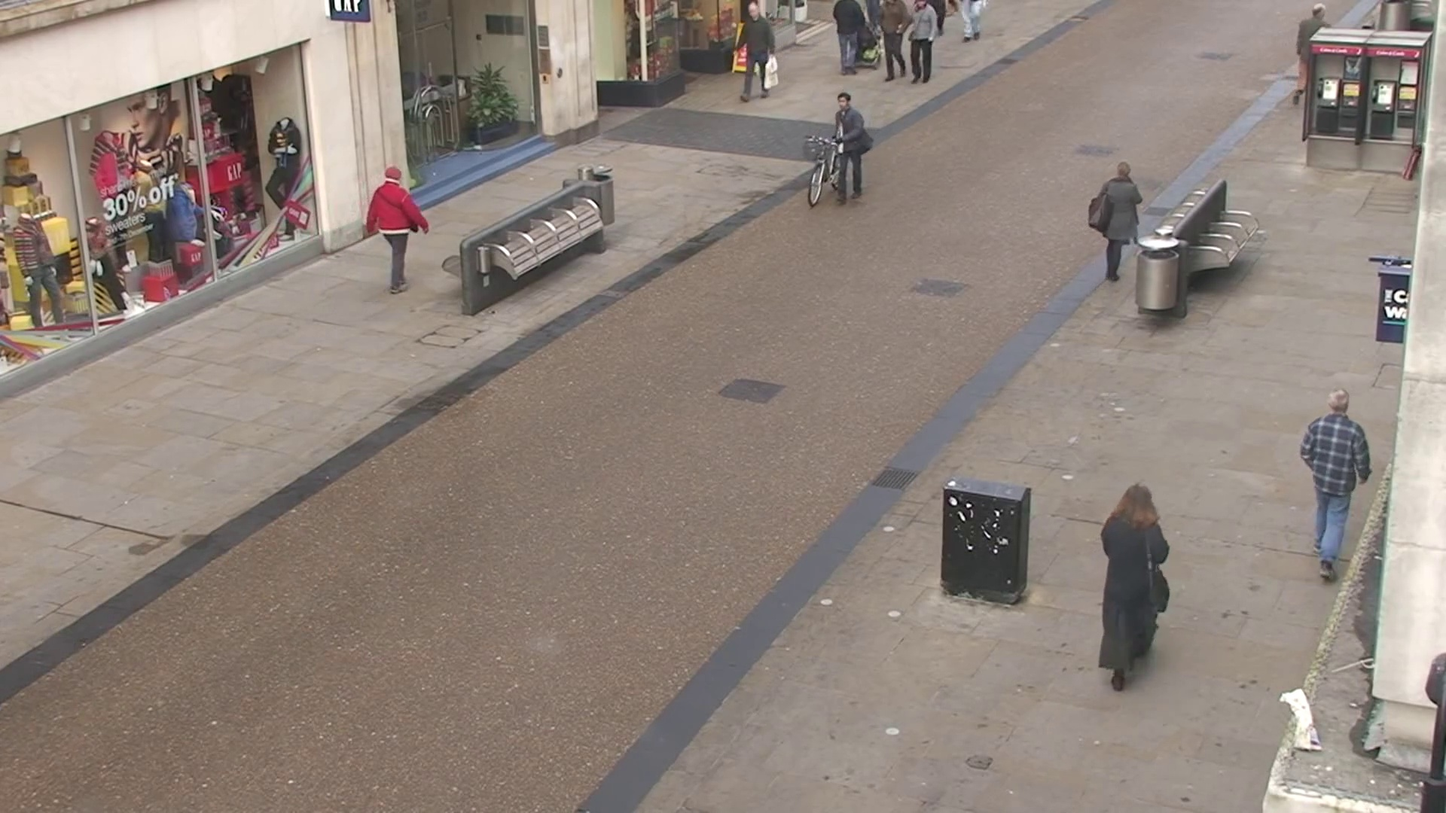person: (1098, 481, 1172, 693), (1300, 387, 1371, 580), (363, 163, 432, 294), (1088, 163, 1145, 284), (265, 116, 307, 236), (832, 90, 873, 199), (739, 2, 779, 99), (904, 0, 941, 83), (877, 0, 913, 84), (831, 0, 870, 75)
